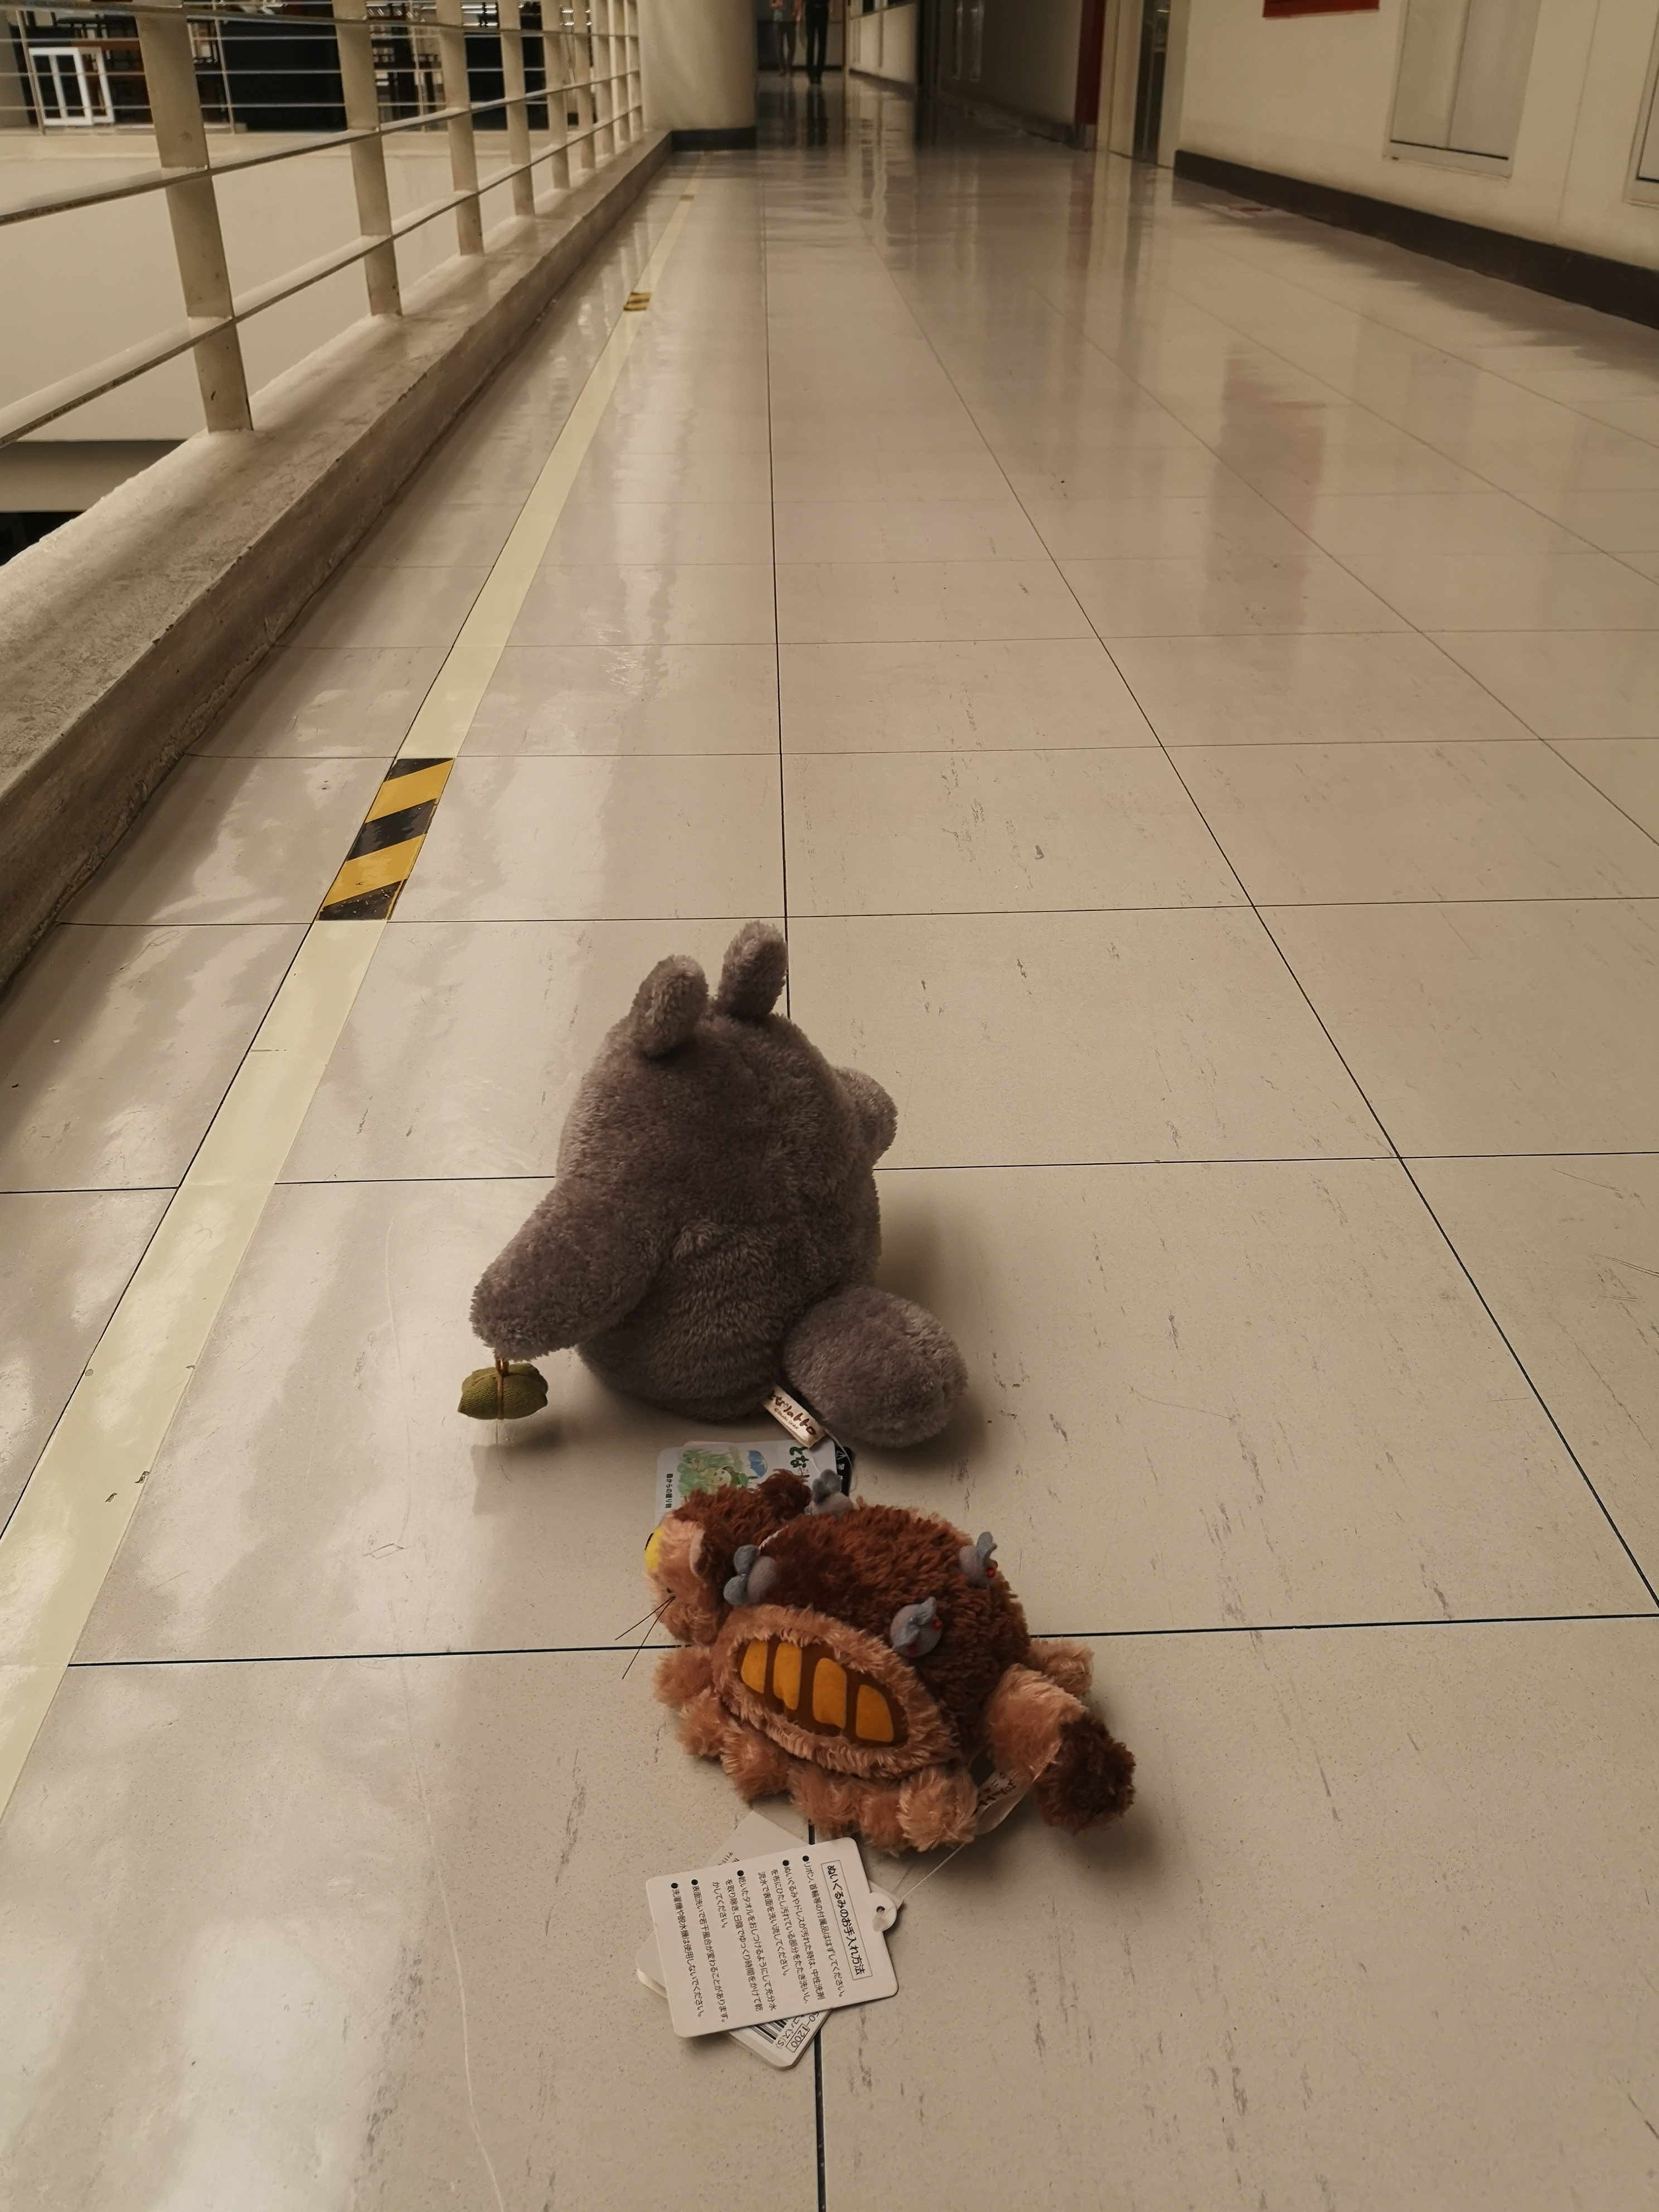nekobus: (617, 1447, 1150, 1878)
totoro: (443, 913, 979, 1456)
